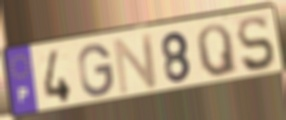4: (43, 48, 74, 106)
8: (160, 30, 193, 85)
G: (76, 42, 115, 99)
N: (112, 31, 160, 97)
Q: (195, 22, 240, 79)
S: (235, 14, 278, 74)
